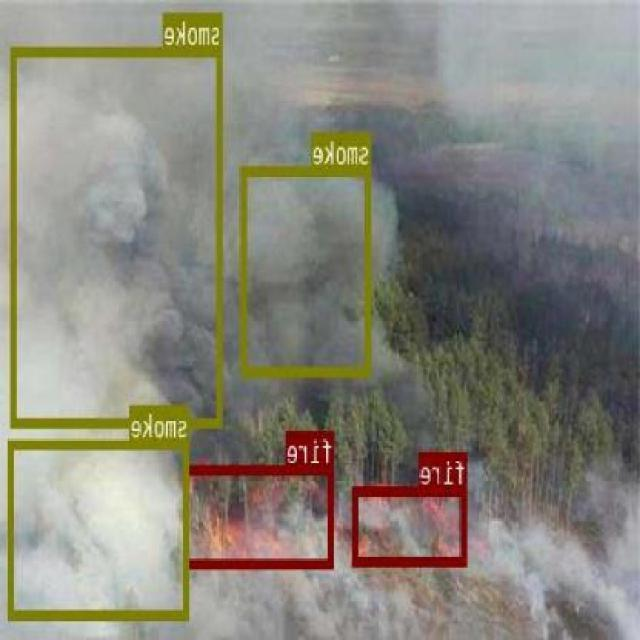Fire: (184, 463, 336, 566), (354, 486, 468, 566)
Smoke: (12, 44, 223, 427), (8, 438, 190, 618), (242, 167, 372, 376)
